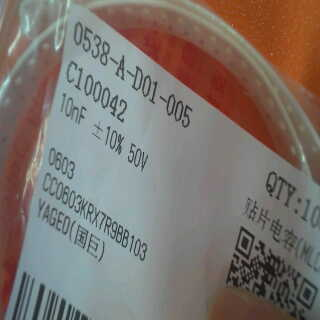10nF: (56, 87, 87, 127)
